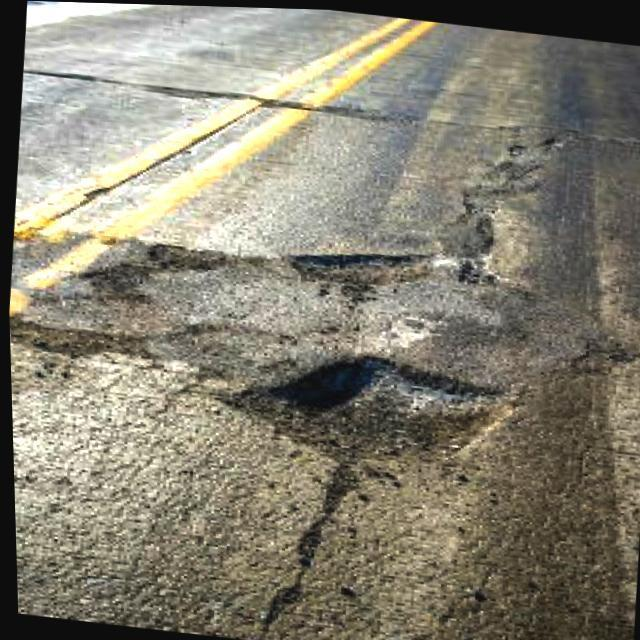Pothole: (239, 358, 526, 462), (288, 251, 434, 305)
